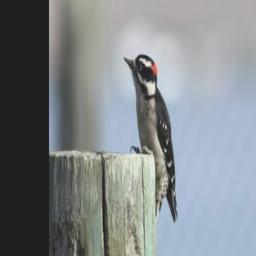Woodpecker: (123, 53, 178, 221)
